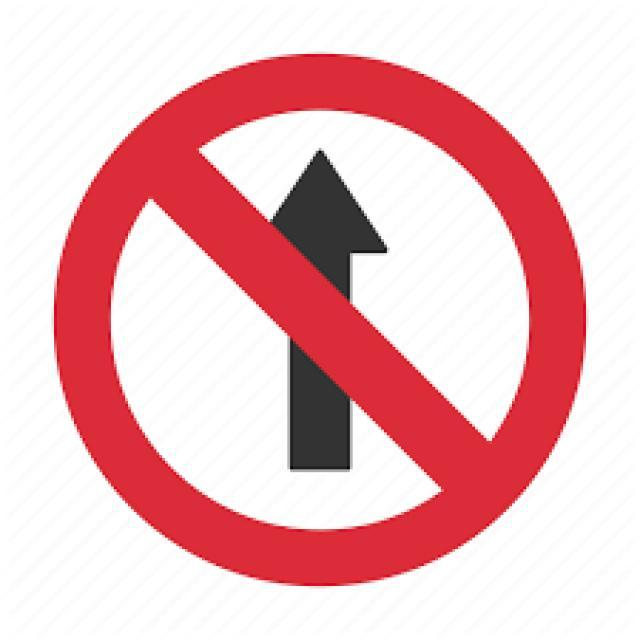straight prohibited: (53, 49, 591, 586)
